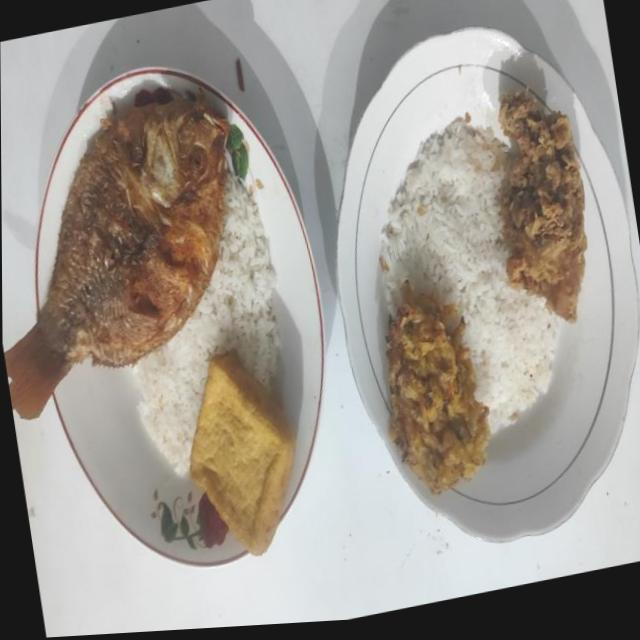ikan_mujair: (4, 99, 231, 418)
nasi_putih: (380, 118, 559, 430), (133, 174, 280, 475)
tahu_goreng: (190, 354, 296, 555)
